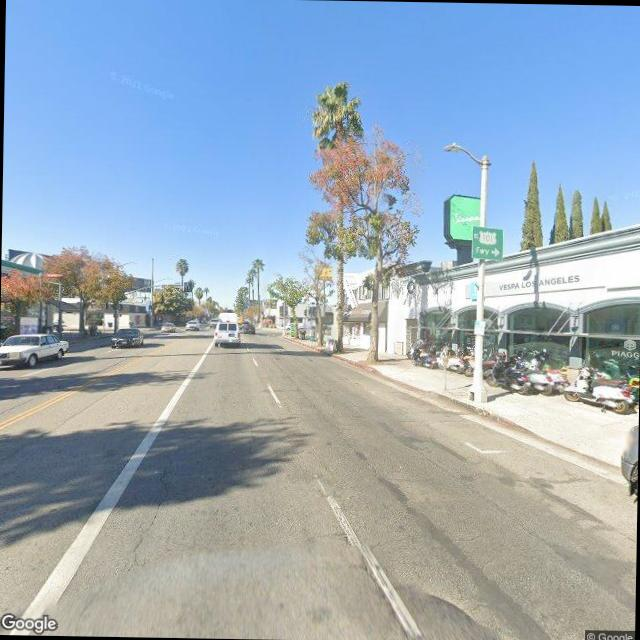pothole: (124, 466, 170, 572)
